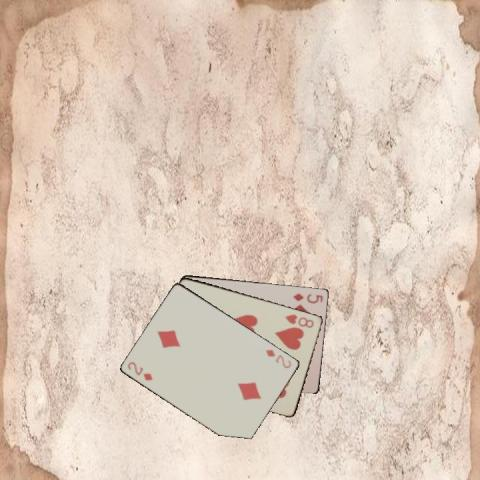2d: (264, 346, 294, 370), (125, 359, 154, 382)
5d: (290, 290, 324, 304)
8h: (283, 312, 315, 330)
